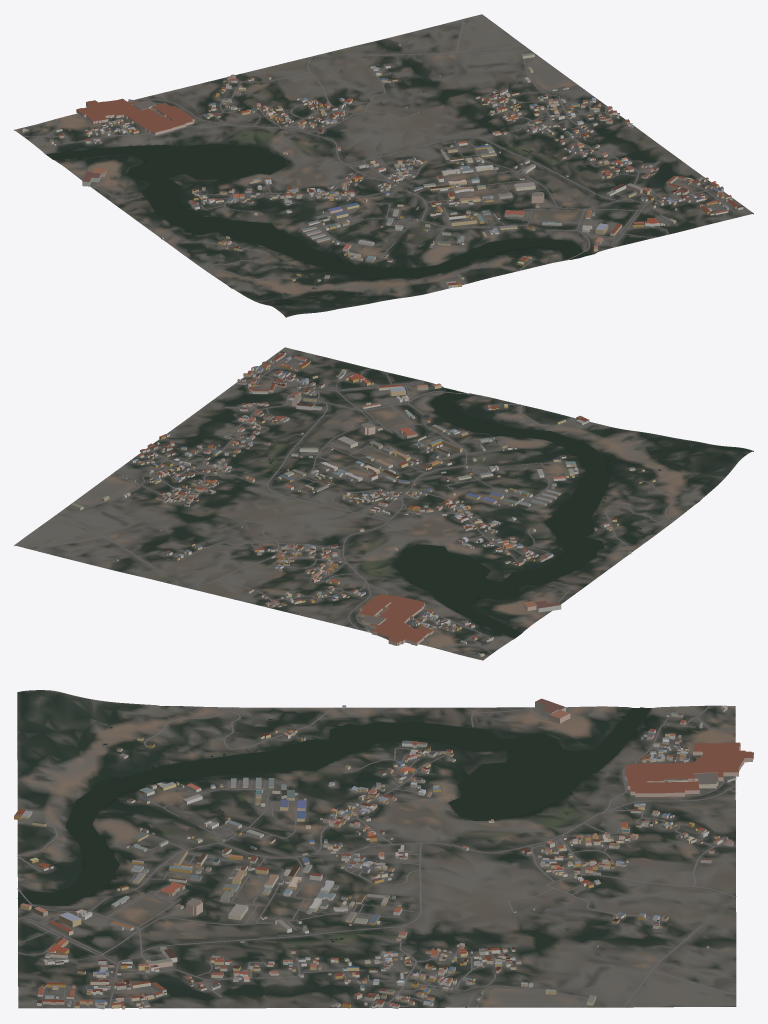
The picture shows the model from 3 angles, top to bottom: view 1: azimuth 30°, elevation 25°; view 2: azimuth 150°, elevation 25°; view 3: azimuth 270°, elevation 25°; orthographic projection. The views are drawn at different scales.
Parts seen in each view (by area): view 1: ground, buildings, water, roads; view 2: ground, buildings, water, roads; view 3: ground, buildings, water, roads.
Boxes of the visible parts, <box> form: ground: <box>14,14,753,317</box>; buildings: <box>22,44,743,287</box>; water: <box>46,144,591,293</box>; roads: <box>24,19,740,284</box>; ground: <box>14,347,753,660</box>; buildings: <box>71,351,655,656</box>; water: <box>268,388,697,638</box>; roads: <box>33,354,678,653</box>; ground: <box>17,690,736,1008</box>; buildings: <box>14,698,753,1009</box>; water: <box>17,706,651,942</box>; roads: <box>17,705,736,1008</box>.
Bounding box in the file's own units: 1419 × 43.1 × 1444.
